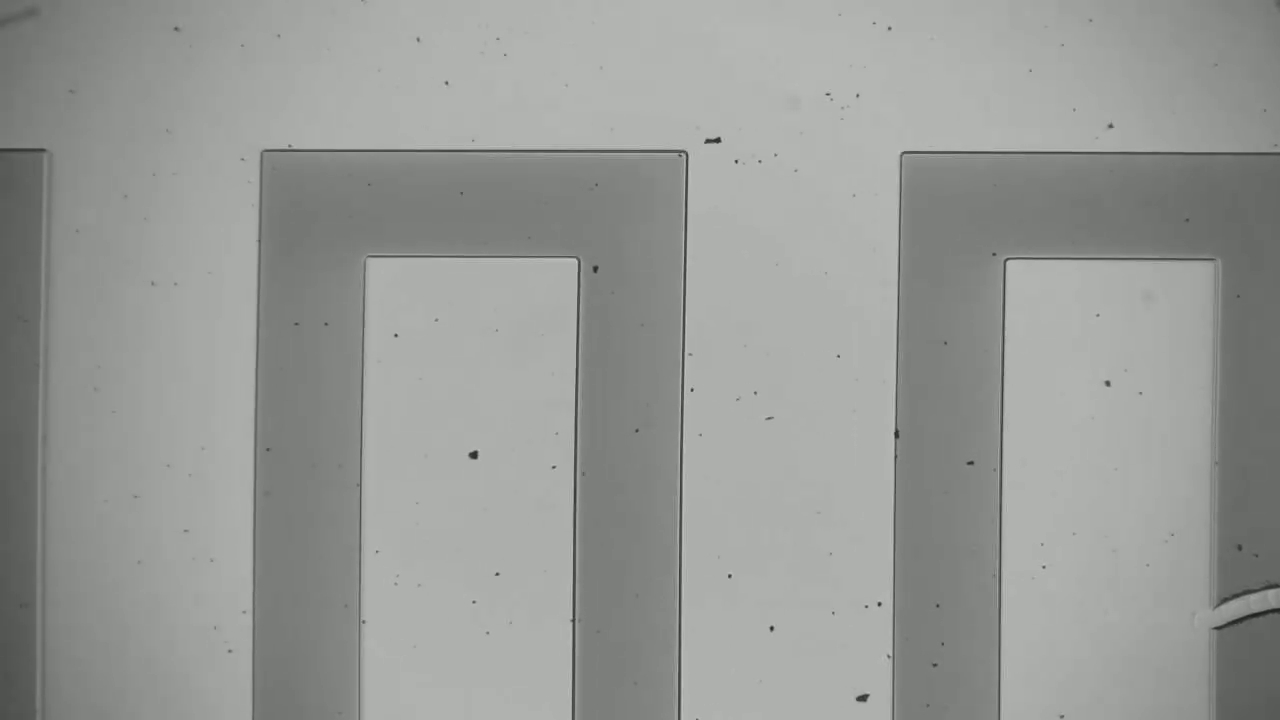Short_circuit: (1180, 551, 1280, 662)
